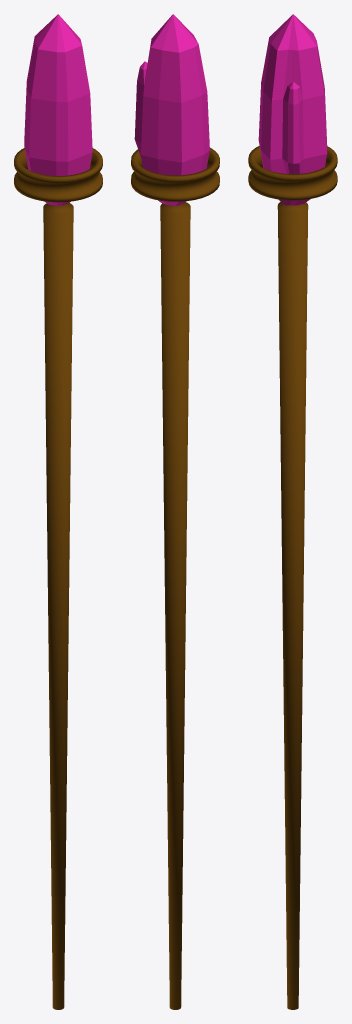
File: Crystal_torch.fbx
The picture shows the model from 3 angles, left to right: view 1: azimuth 90°, elevation 25°; view 2: azimuth 150°, elevation 25°; view 3: azimuth 270°, elevation 25°; orthographic projection.
Parts seen in each view (by area): view 1: Crystal_torch, Torch_crystal; view 2: Crystal_torch, Torch_crystal; view 3: Crystal_torch, Torch_crystal.
Part boxes in pixels (x1,y1,x2,y2): Crystal_torch: (14,148,102,1009); Torch_crystal: (24,14,92,205); Crystal_torch: (131,147,219,1009); Torch_crystal: (134,14,209,206); Crystal_torch: (248,146,337,1009); Torch_crystal: (258,14,327,205).
Bounding box in the file's own units: 6.49 × 79.4 × 6.45.
